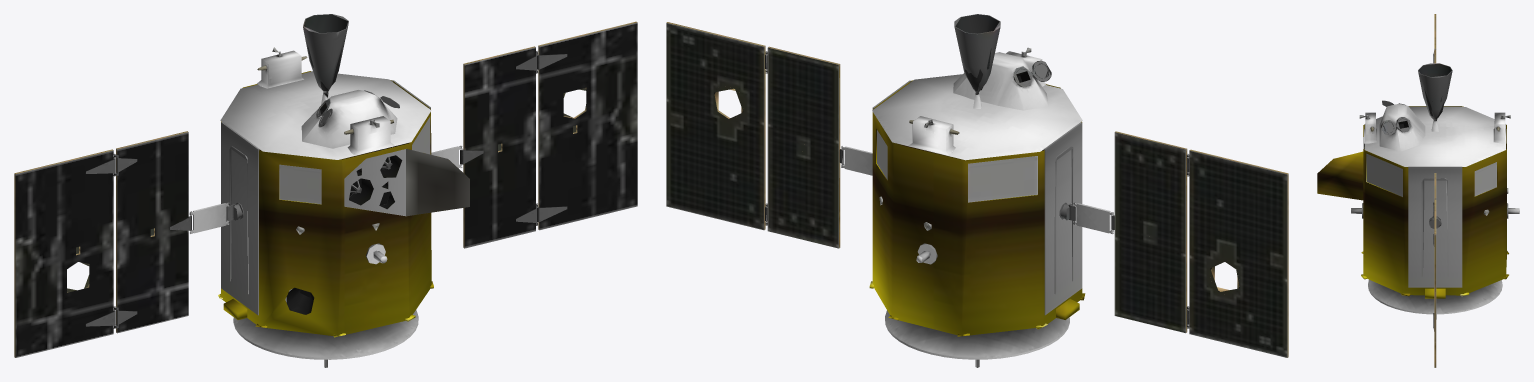
File: space-clementine.glb
3 renders of one model, left to right at view 1: azimuth 30°, elevation 25°; view 2: azimuth 150°, elevation 25°; view 3: azimuth 270°, elevation 25°, orthographic. The views are drawn at different scales.
Parts seen in each view (by area): view 1: tex_01, foil_gold, foil_white, AO_dish, AO_hinges; view 2: shiny_panel, foil_gold, tex_01, foil_white, AO_dish, AO_hinges; view 3: foil_gold, tex_01, foil_white, AO_dish.
Part boxes in pixels (x1,y1,x2,y2): tex_01: (14, 14, 637, 357); foil_gold: (218, 71, 469, 337); foil_white: (220, 50, 431, 159); AO_dish: (233, 243, 418, 367); AO_hinges: (85, 50, 567, 328); shiny_panel: (666, 23, 1287, 357); foil_gold: (869, 80, 1085, 336); tex_01: (666, 14, 1288, 357); foil_white: (872, 51, 1082, 160); AO_dish: (885, 243, 1069, 367); AO_hinges: (765, 51, 1189, 328); foil_gold: (1317, 106, 1508, 298); tex_01: (1359, 14, 1510, 367); foil_white: (1364, 103, 1506, 166); AO_dish: (1351, 203, 1519, 319).
Size of the model in its own units: 4.13 by 2.18 by 1.6.
7 materials, 6 textured.
